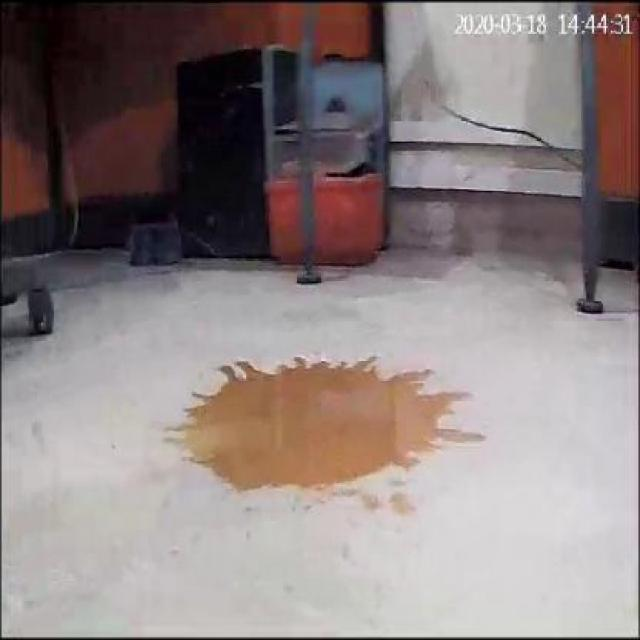spill: (172, 353, 490, 498)
